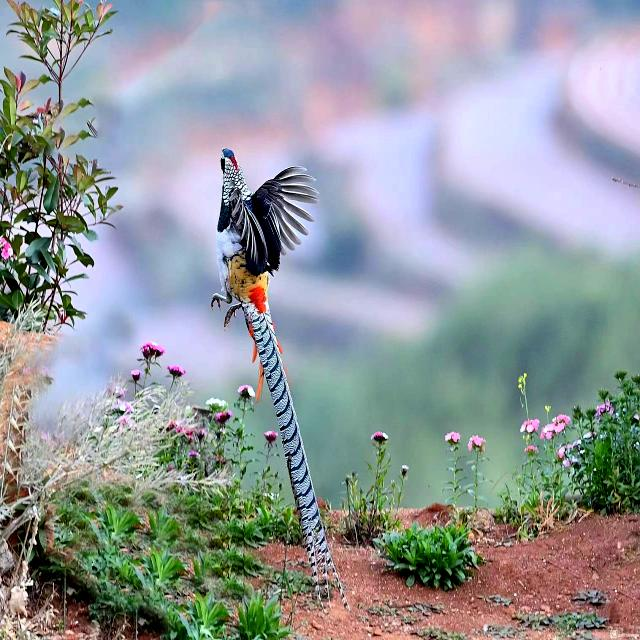Chrysolophus amherstiae: (254, 316, 329, 559)
